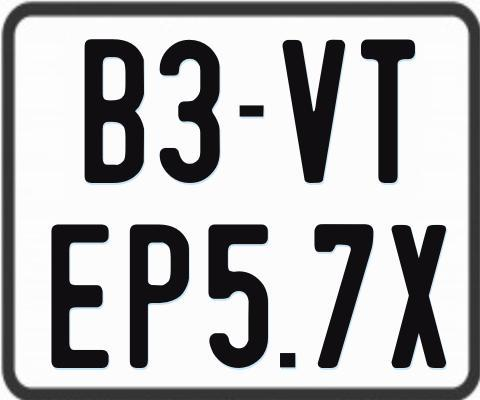3: (158, 40, 220, 189)
5: (208, 225, 272, 371)
7: (311, 222, 375, 372)
B: (82, 37, 142, 185)
E: (50, 223, 111, 366)
P: (129, 222, 188, 369)
T: (360, 38, 417, 184)
V: (283, 38, 347, 184)
X: (391, 222, 449, 366)
